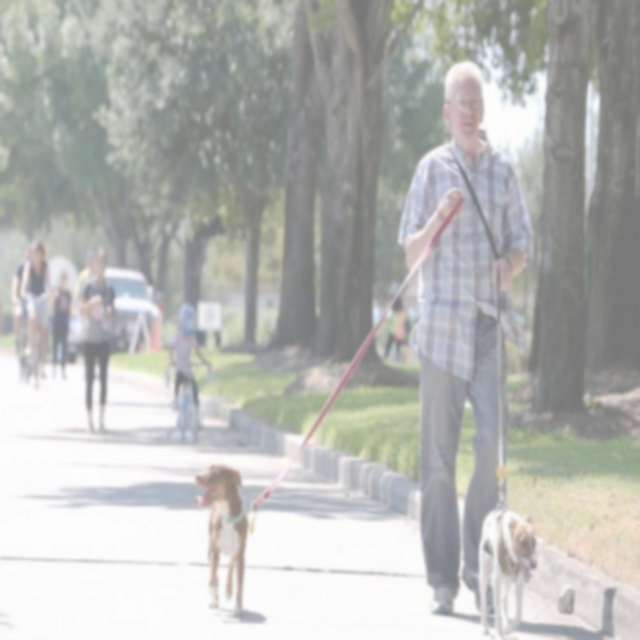pessoa: (392, 55, 537, 622), (75, 240, 118, 440), (168, 322, 214, 432), (18, 236, 52, 367), (74, 246, 101, 382), (48, 264, 74, 384), (10, 247, 32, 361), (382, 294, 406, 363)
